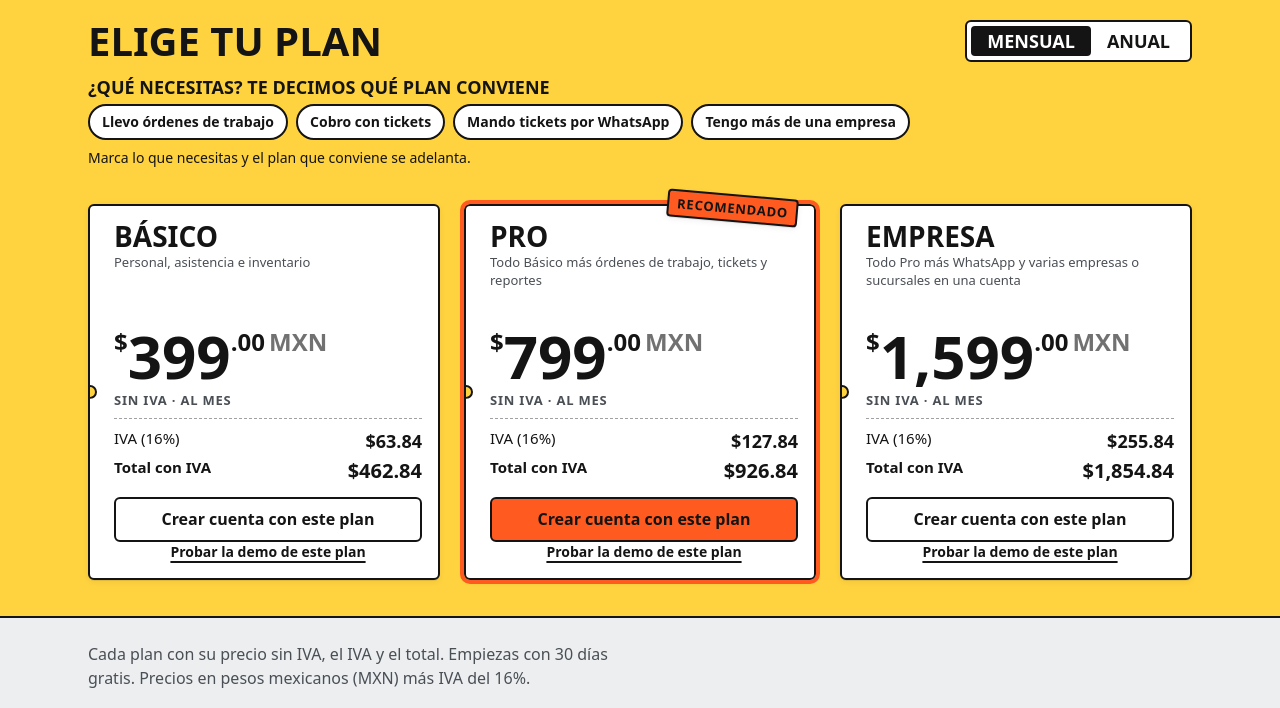
PricingSection › el plan sugerido por el buscador recibe el sello Te conviene
This screenshot has width=1280, height=708.
What coordinates should you click on to do the following:
click the checkbox labelled "Mando tickets por WhatsApp"
I would click on:
 (568, 122)
Its box is 453,104 -> 683,140.
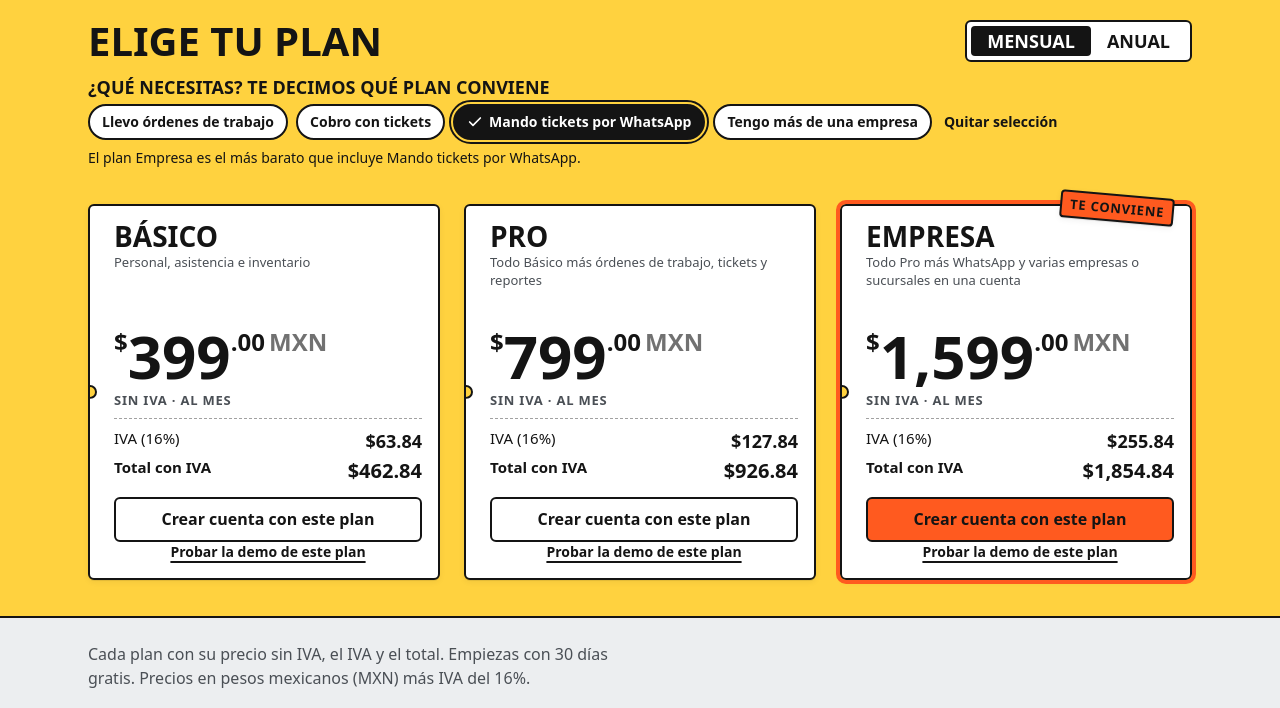
Expected: the text "Te conviene" is shown once, 1059,189 -> 1175,227
Result: the text "Te conviene" is shown at 1059,189 -> 1175,227
Result: the text "Recomendado" is gone
